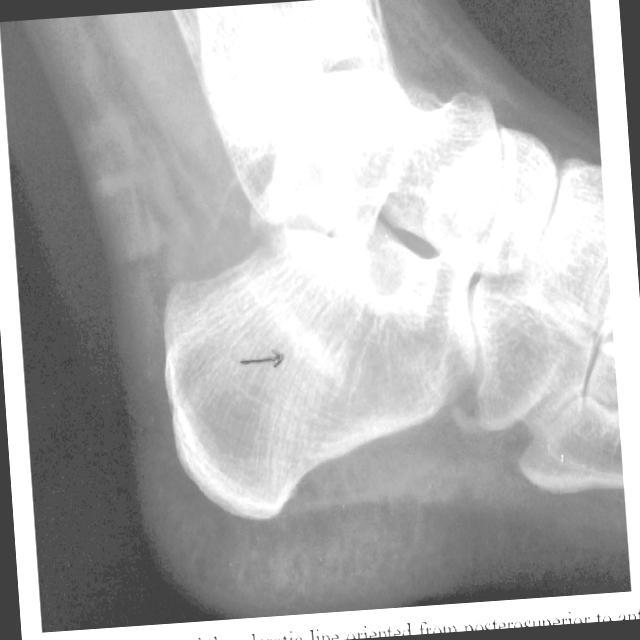HairLine Fracture: (286, 307, 351, 382)
